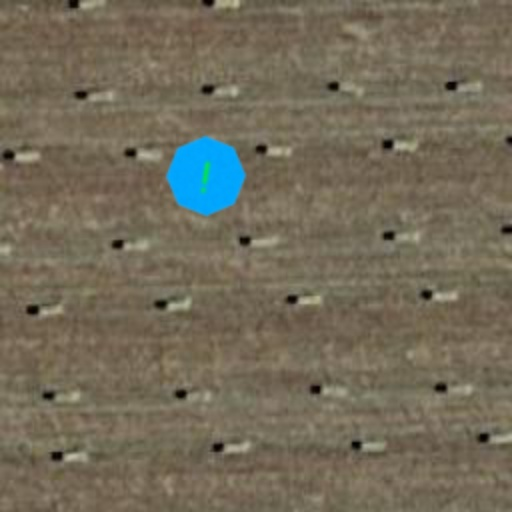octagon: (164, 134, 248, 218)
